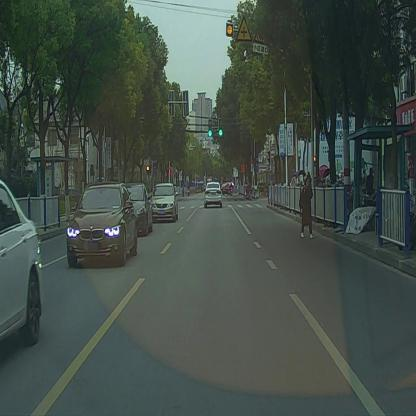Green Light: (218, 116, 224, 138), (208, 118, 212, 137)
